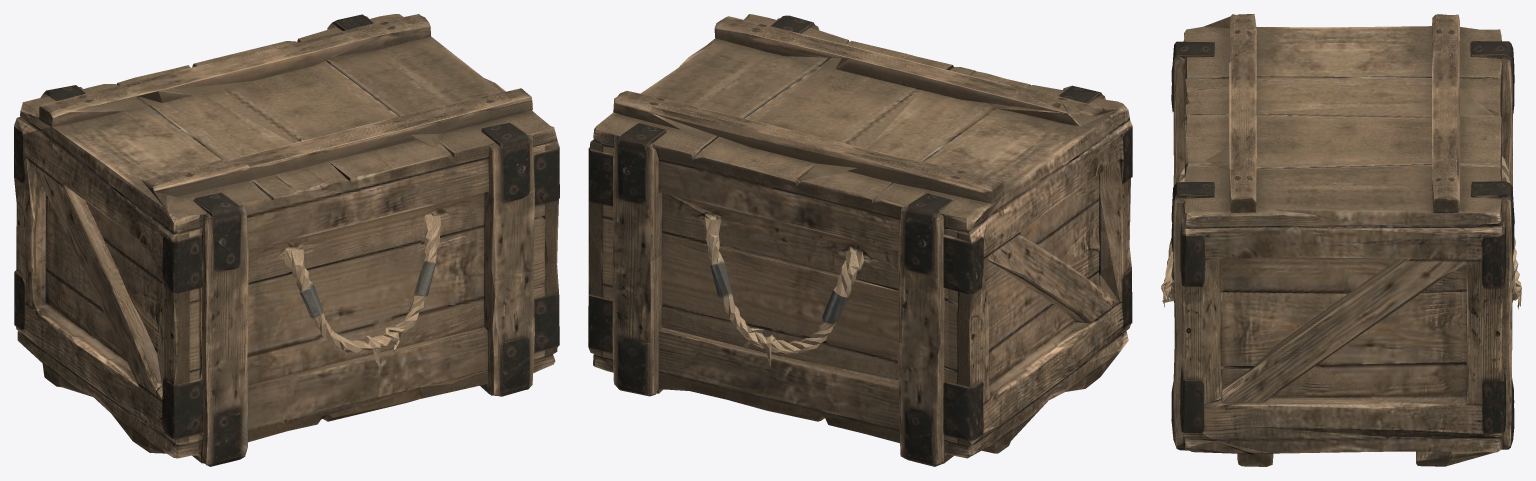
File: crate.glb
3 renders of one model, left to right at view 1: azimuth 30°, elevation 25°; view 2: azimuth 150°, elevation 25°; view 3: azimuth 270°, elevation 25°, orthographic.
Visible parts, largest first — view 1: fit; view 2: fit; view 3: fit.
Part boxes in pixels (x1=…): fit: x1=14, y1=14, x2=559, y2=466; fit: x1=588, y1=14, x2=1132, y2=466; fit: x1=1161, y1=14, x2=1521, y2=466.
Bounding box in the file's own units: 1.5 × 1 × 1.2.
Materials: 1 (1 with a texture image).
